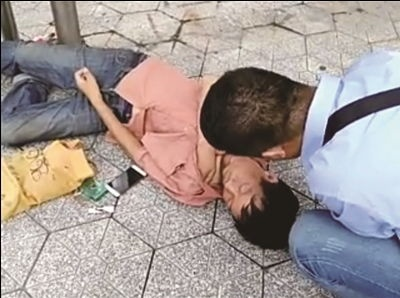falling: (11, 26, 297, 269)
